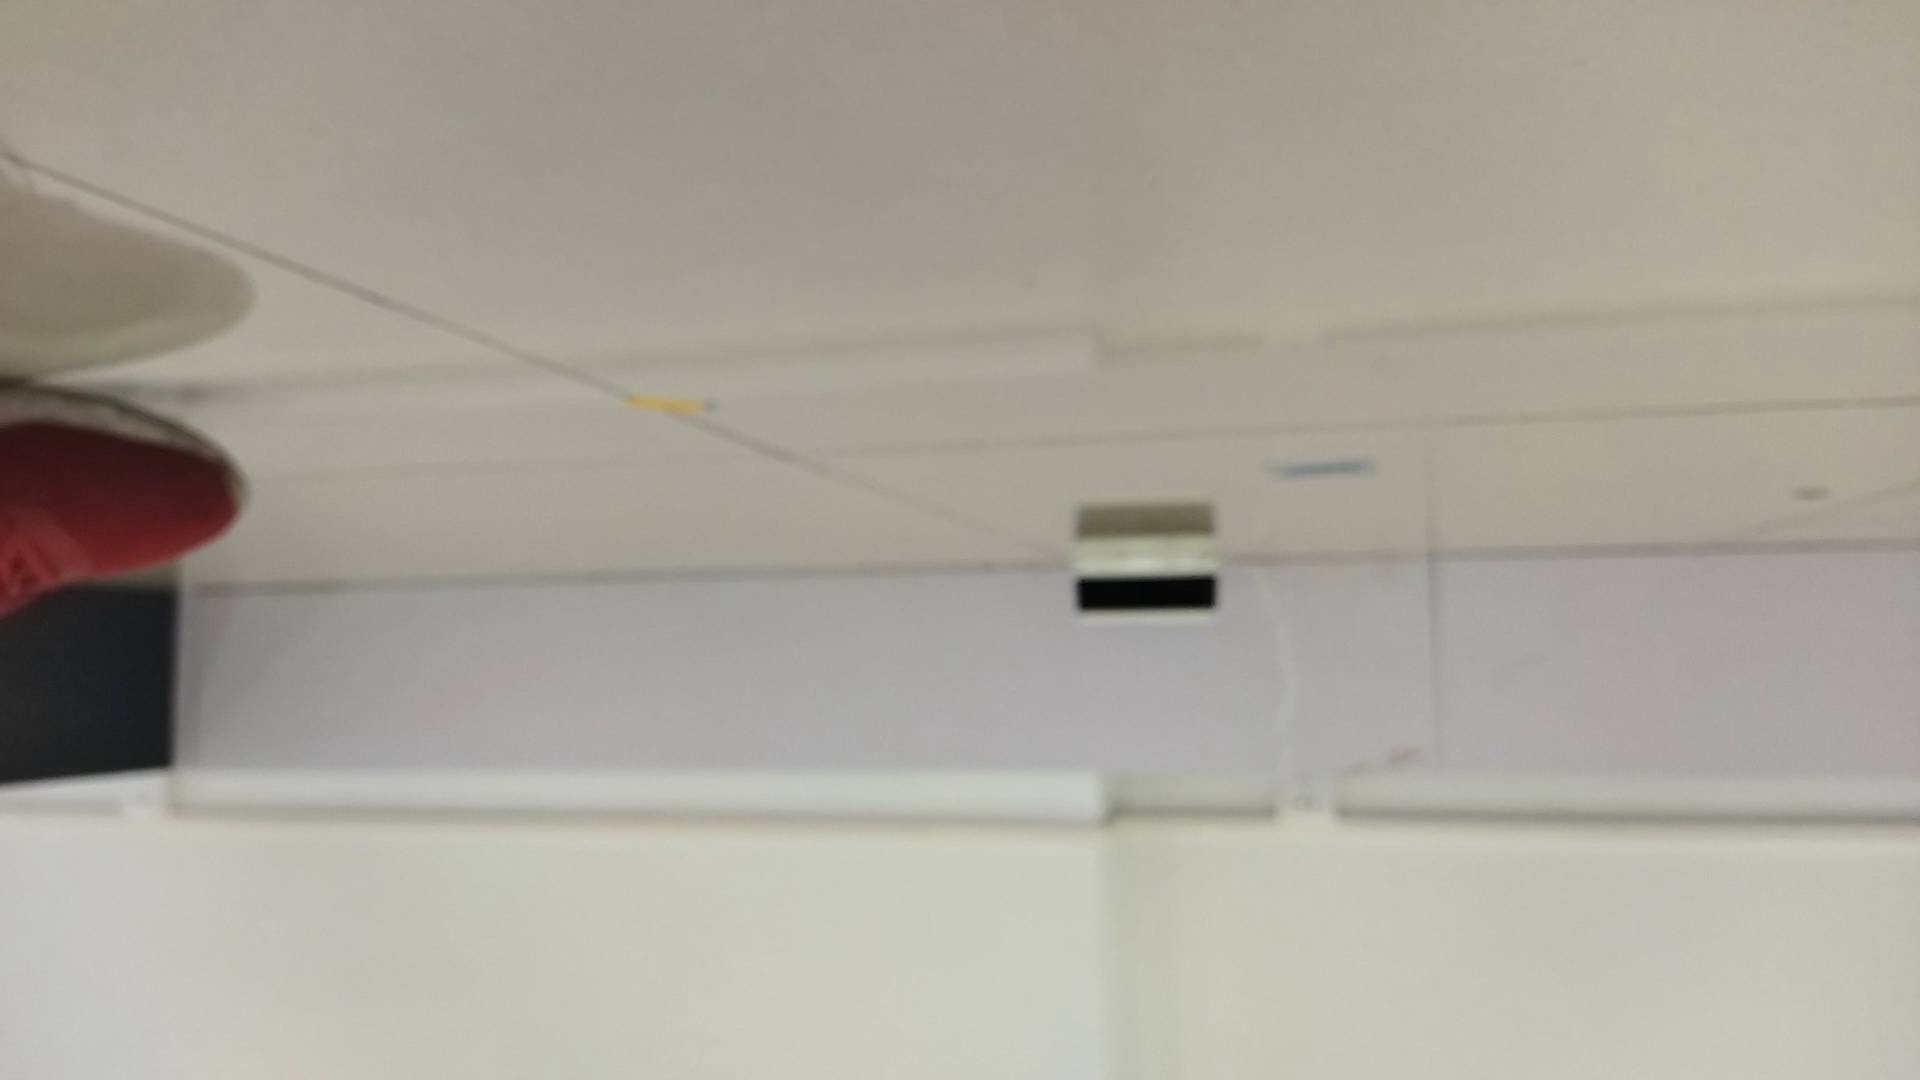recharge seat: (1065, 527, 1222, 626)
